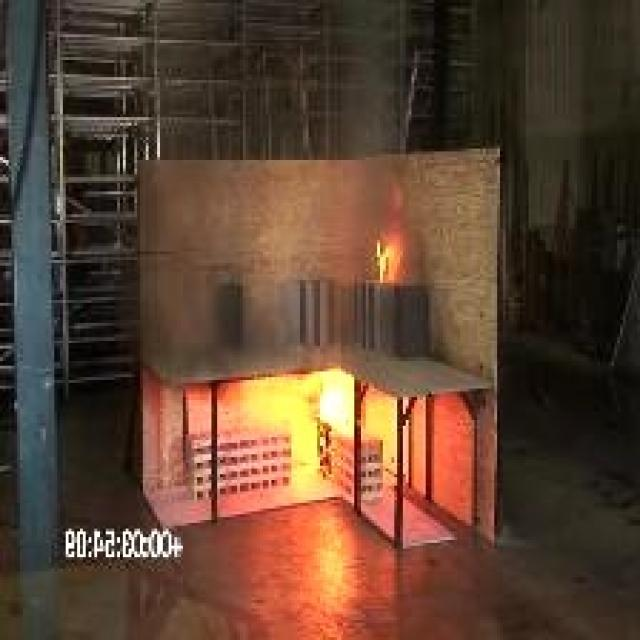fire: (280, 224, 417, 453)
